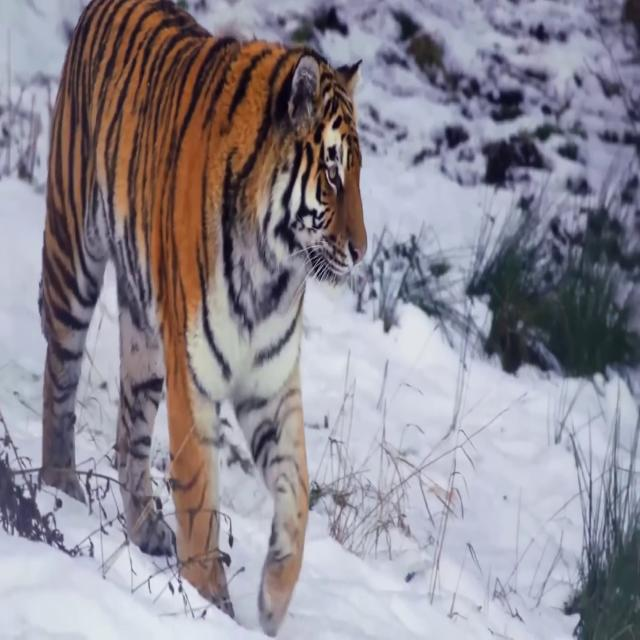tiger: (36, 0, 367, 633)
